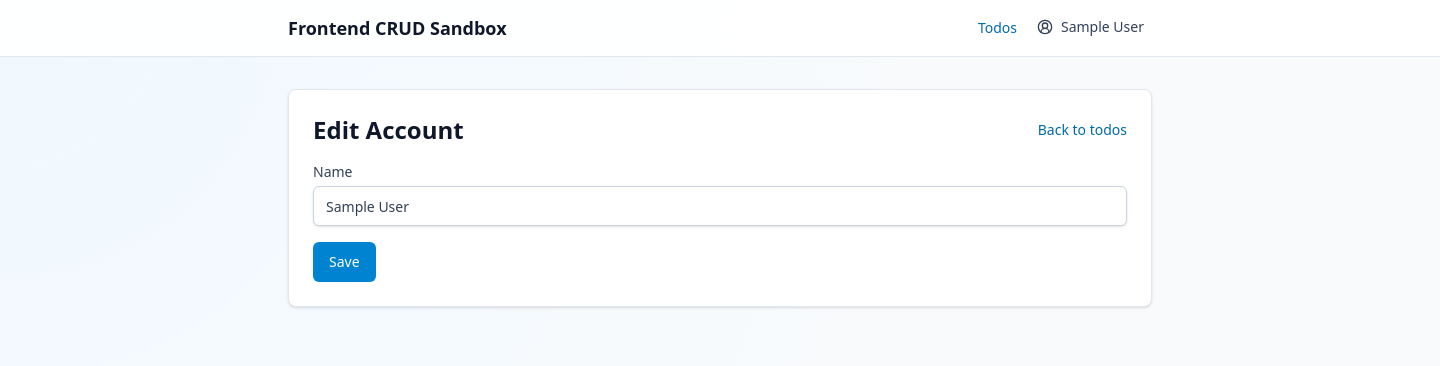
account edit integration › updates name successfully
Replace the text in the field labelled "Name" with "Updated Account": (720, 206) [313,186,1127,226]
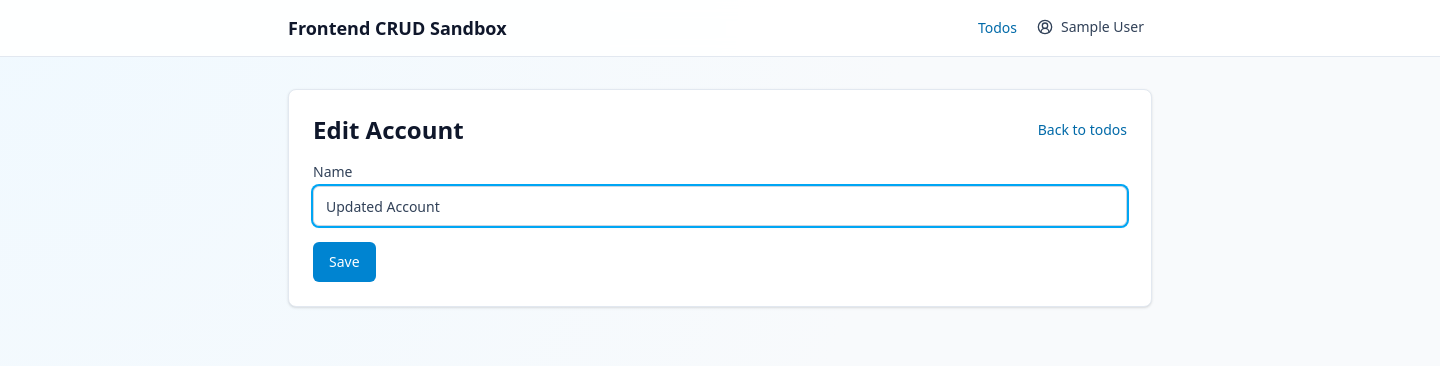
Click the button "Save": (344, 262) [313,242,376,282]
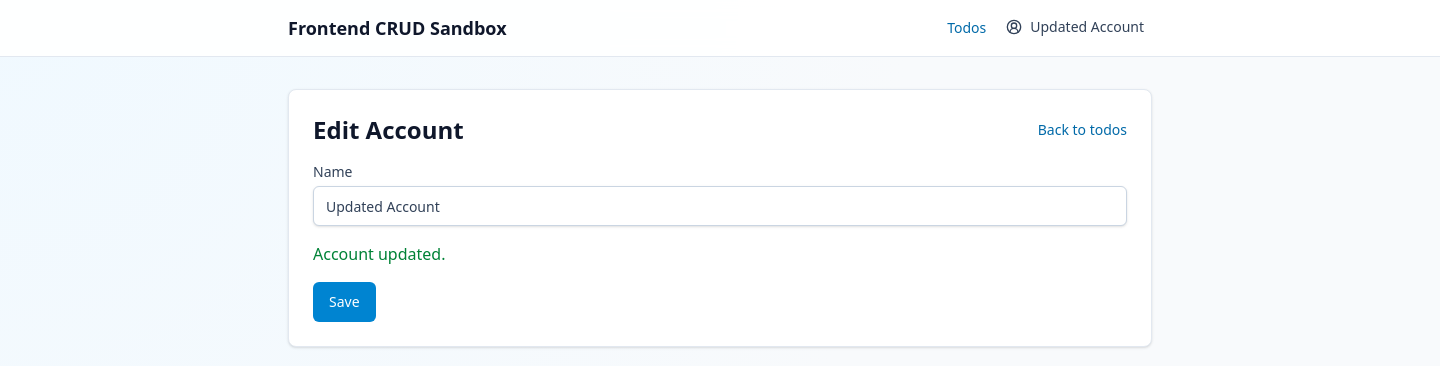
Expected: the text "Account updated." is shown, [313,243,446,265]
Expected: the text "Updated Account" is shown, [1006,16,1144,36]
